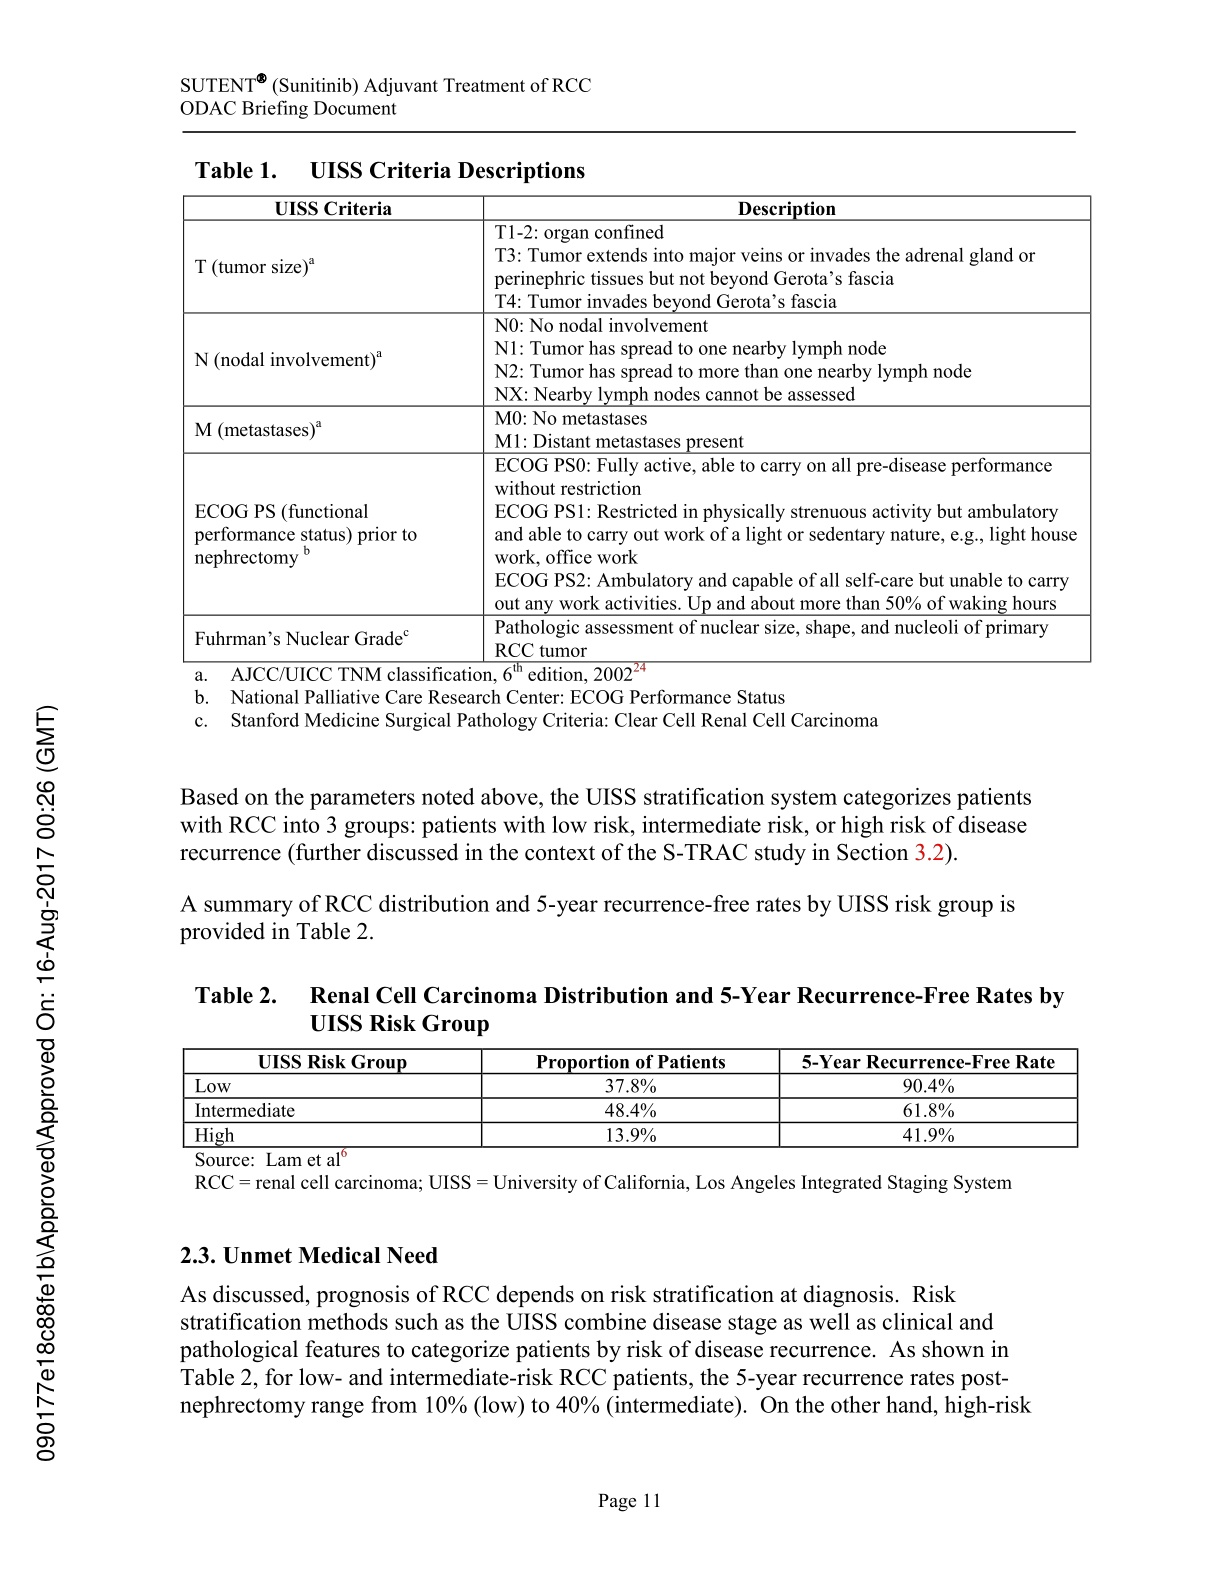full_lined: (183, 194, 1092, 663), (181, 1047, 1079, 1148)
